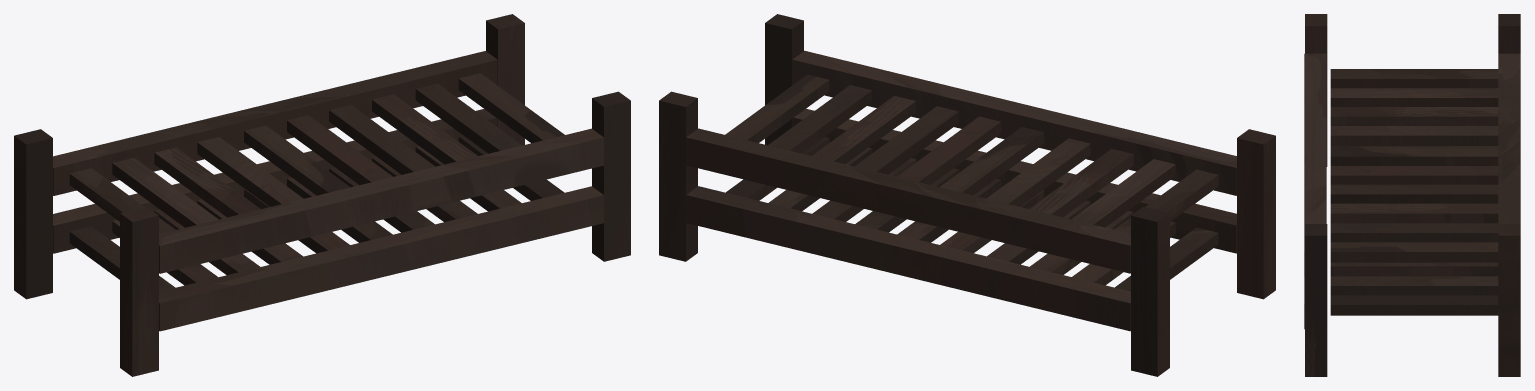
File: M-shoerack.fbx
3 renders of one model, left to right at view 1: azimuth 30°, elevation 25°; view 2: azimuth 150°, elevation 25°; view 3: azimuth 270°, elevation 25°, orthographic. The views are drawn at different scales.
Parts seen in each view (by area): view 1: Cube.007; view 2: Cube.007; view 3: Cube.007.
Boxes of the visible parts, <box> form: Cube.007: <box>14,14,630,376</box>; Cube.007: <box>659,14,1275,376</box>; Cube.007: <box>1304,14,1520,376</box>.
Bounding box in the file's own units: 90.5 × 37.24 × 26.86.
2 materials, 2 textured.
